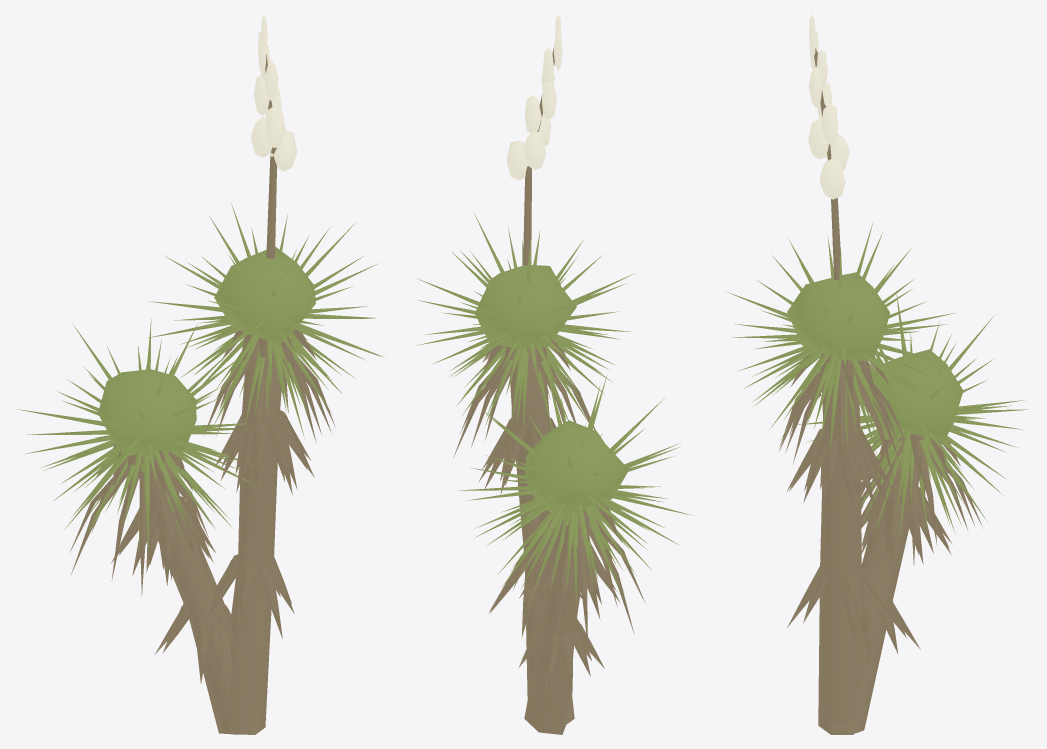
File: Blender_SoaptreeYucca_1.glb
The picture shows the model from 3 angles, left to right: view 1: azimuth 30°, elevation 25°; view 2: azimuth 150°, elevation 25°; view 3: azimuth 270°, elevation 25°; orthographic projection. The views are drawn at different scales.
Parts seen in each view (by area): view 1: Blender_SoaptreeYucca_1; view 2: Blender_SoaptreeYucca_1; view 3: Blender_SoaptreeYucca_1.
Boxes of the visible parts, bbox=[...] form: Blender_SoaptreeYucca_1: bbox=[16, 14, 384, 734]; Blender_SoaptreeYucca_1: bbox=[416, 14, 692, 734]; Blender_SoaptreeYucca_1: bbox=[727, 14, 1028, 734].
Bounding box in the file's own units: 2.48 × 5.56 × 2.16.
